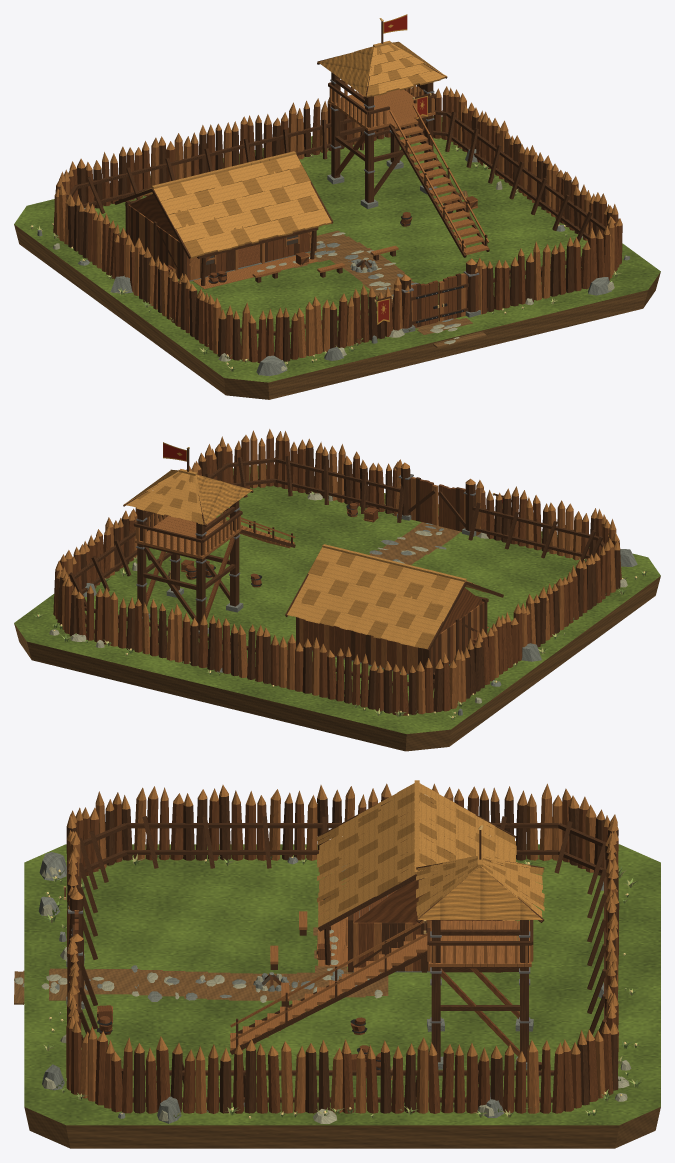
Rendered from castelo-nivel-1.glb.
3 renders of one model, top to bottom at view 1: azimuth 30°, elevation 25°; view 2: azimuth 150°, elevation 25°; view 3: azimuth 270°, elevation 25°, orthographic. The views are drawn at different scales.
Visible parts, largest first — view 1: Piso elevado e fundação, Estacas de cedro com pontas lavradas, Casa de guarda • cobertura de palha, Torre • piso, guarda-corpo e escada, Travessas, cordas e contraventamentos, Casa de guarda • vedações e piso, Torre • cobertura piramidal de palha, Torre • esteios e contraventamentos, Trilha irregular de terra e lajes, Casa de guarda • pilares e vigas, Pedras, musgos e marcas de uso, Barricas, sacos, lenha e bancos (+3 smaller); view 2: Piso elevado e fundação, Estacas de cedro com pontas lavradas, Casa de guarda • cobertura de palha, Travessas, cordas e contraventamentos, Casa de guarda • vedações e piso, Torre • esteios e contraventamentos, Torre • cobertura piramidal de palha, Torre • piso, guarda-corpo e escada, Trilha irregular de terra e lajes, Pedras, musgos e marcas de uso, Tábuas e ferrolho PortaoDireita, Tábuas e ferrolho PortaoEsquerda (+3 smaller); view 3: Piso elevado e fundação, Estacas de cedro com pontas lavradas, Casa de guarda • cobertura de palha, Travessas, cordas e contraventamentos, Torre • piso, guarda-corpo e escada, Trilha irregular de terra e lajes, Torre • cobertura piramidal de palha, Torre • esteios e contraventamentos, Casa de guarda • vedações e piso, Pedras, musgos e marcas de uso, Casa de guarda • pilares e vigas, Barricas, sacos, lenha e bancos (+1 smaller).
Boxes of the visible parts, left/top/right/bottom form: Piso elevado e fundação: left=14, top=116, right=660, bottom=399; Estacas de cedro com pontas lavradas: left=53, top=85, right=622, bottom=363; Casa de guarda • cobertura de palha: left=114, top=151, right=333, bottom=258; Torre • piso, guarda-corpo e escada: left=328, top=79, right=489, bottom=257; Travessas, cordas e contraventamentos: left=66, top=110, right=606, bottom=355; Casa de guarda • vedações e piso: left=128, top=194, right=311, bottom=281; Torre • cobertura piramidal de palha: left=317, top=40, right=447, bottom=98; Torre • esteios e contraventamentos: left=327, top=18, right=437, bottom=208; Trilha irregular de terra e lajes: left=257, top=230, right=486, bottom=347; Casa de guarda • pilares e vigas: left=125, top=198, right=318, bottom=289; Pedras, musgos e marcas de uso: left=37, top=134, right=630, bottom=376; Barricas, sacos, lenha e bancos: left=166, top=190, right=477, bottom=283; Piso elevado e fundação: left=14, top=465, right=660, bottom=751; Estacas de cedro com pontas lavradas: left=53, top=429, right=621, bottom=715; Casa de guarda • cobertura de palha: left=285, top=544, right=503, bottom=651; Travessas, cordas e contraventamentos: left=69, top=456, right=605, bottom=706; Casa de guarda • vedações e piso: left=299, top=588, right=484, bottom=674; Torre • esteios e contraventamentos: left=136, top=447, right=243, bottom=633; Torre • cobertura piramidal de palha: left=123, top=469, right=253, bottom=526; Torre • piso, guarda-corpo e escada: left=133, top=508, right=295, bottom=559; Trilha irregular de terra e lajes: left=369, top=515, right=460, bottom=564; Pedras, musgos e marcas de uso: left=49, top=492, right=637, bottom=715; Tábuas e ferrolho PortaoDireita: left=408, top=477, right=438, bottom=525; Tábuas e ferrolho PortaoEsquerda: left=438, top=484, right=465, bottom=531; Piso elevado e fundação: left=24, top=844, right=660, bottom=1148; Estacas de cedro com pontas lavradas: left=66, top=783, right=619, bottom=1113; Casa de guarda • cobertura de palha: left=317, top=780, right=516, bottom=931; Travessas, cordas e contraventamentos: left=66, top=816, right=607, bottom=1102; Torre • piso, guarda-corpo e escada: left=230, top=903, right=533, bottom=1054; Trilha irregular de terra e lajes: left=14, top=927, right=388, bottom=1004; Torre • cobertura piramidal de palha: left=416, top=854, right=544, bottom=922; Torre • esteios e contraventamentos: left=427, top=825, right=533, bottom=1069; Casa de guarda • vedações e piso: left=353, top=802, right=495, bottom=972; Pedras, musgos e marcas de uso: left=38, top=844, right=631, bottom=1123; Casa de guarda • pilares e vigas: left=318, top=855, right=500, bottom=972; Barricas, sacos, lenha e bancos: left=96, top=894, right=392, bottom=1079.
Bounding box in the file's own units: 33.31 × 13.62 × 32.42.
Materials: 21 (14 with a texture image).
